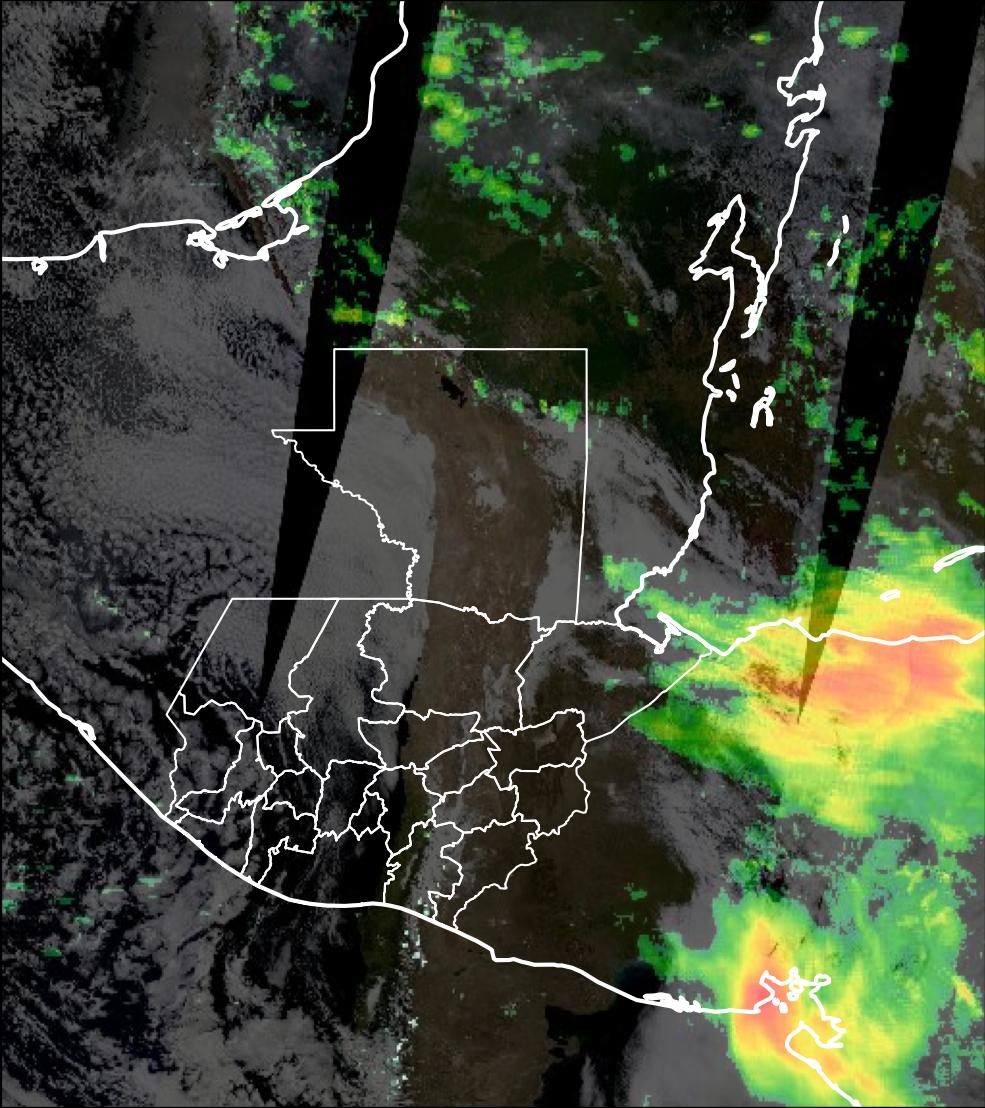precipitacion: (733, 613, 985, 797), (717, 922, 879, 1108)
